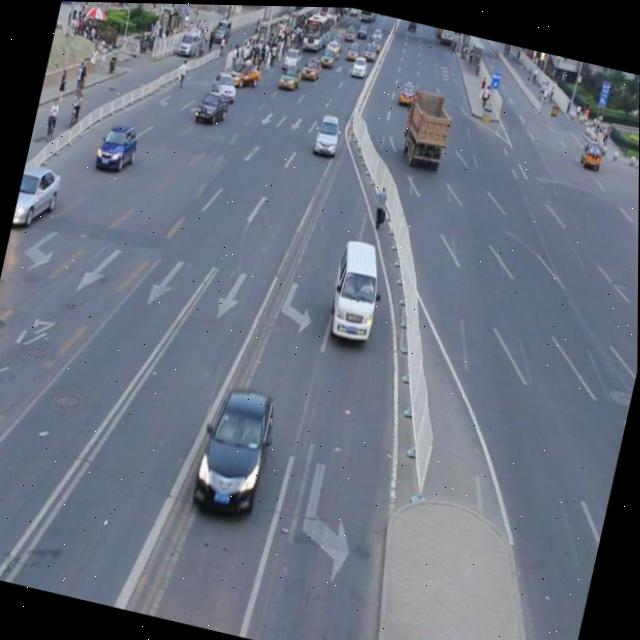car: (189, 378, 278, 520), (12, 160, 64, 235), (94, 117, 142, 173), (192, 86, 231, 126), (311, 110, 343, 155)
truck: (323, 234, 388, 342)
